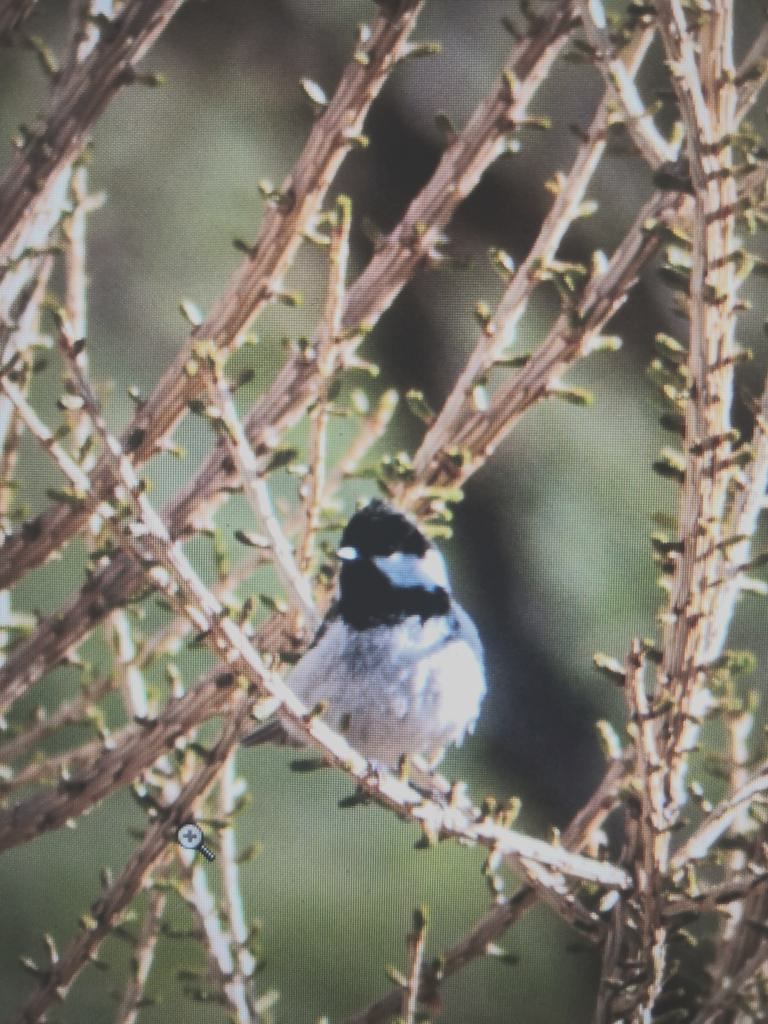PeriparusAter: (281, 502, 487, 769)
